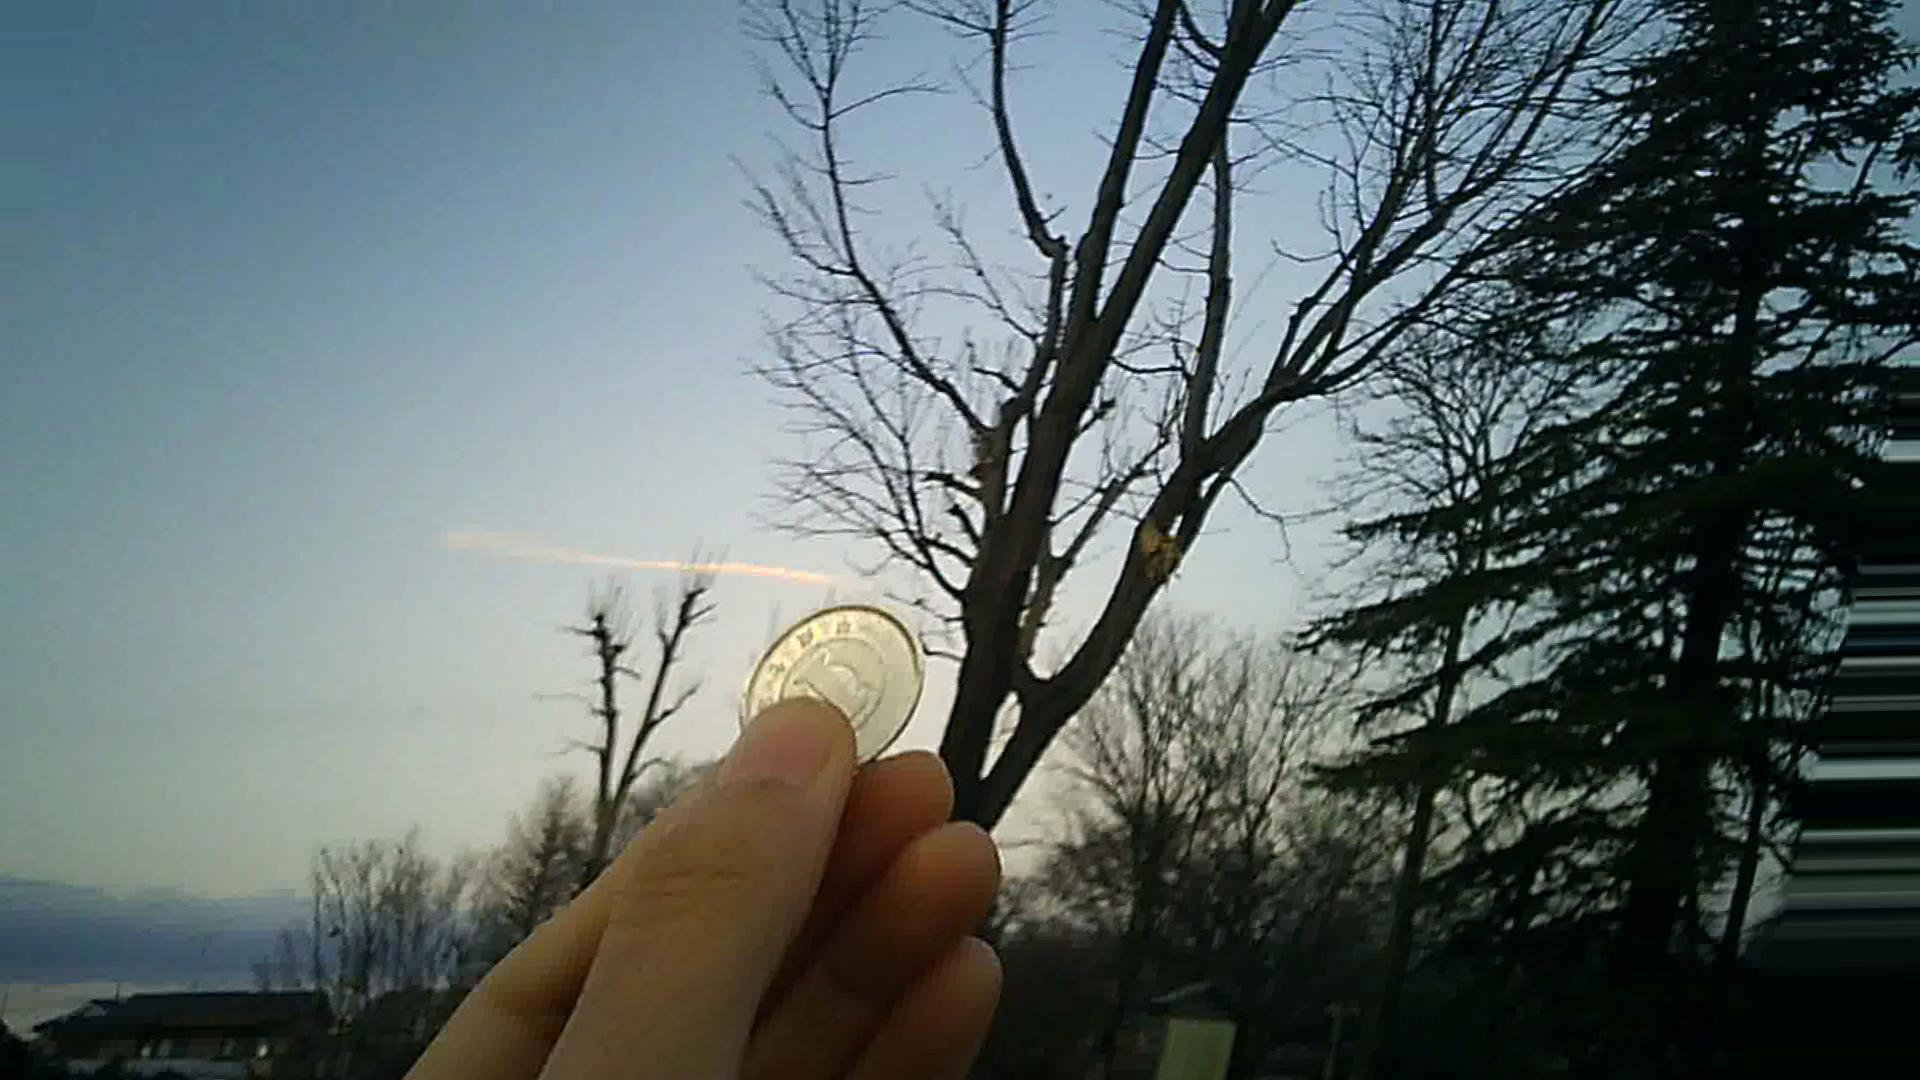1 Yen: (717, 583, 932, 771)
